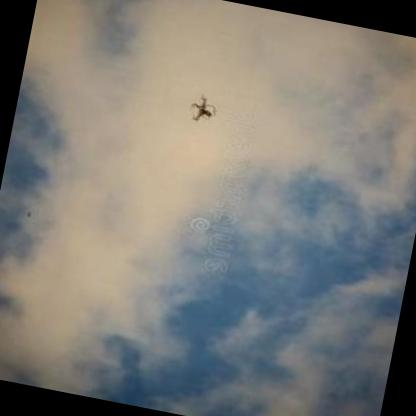drone: (180, 89, 220, 131)
